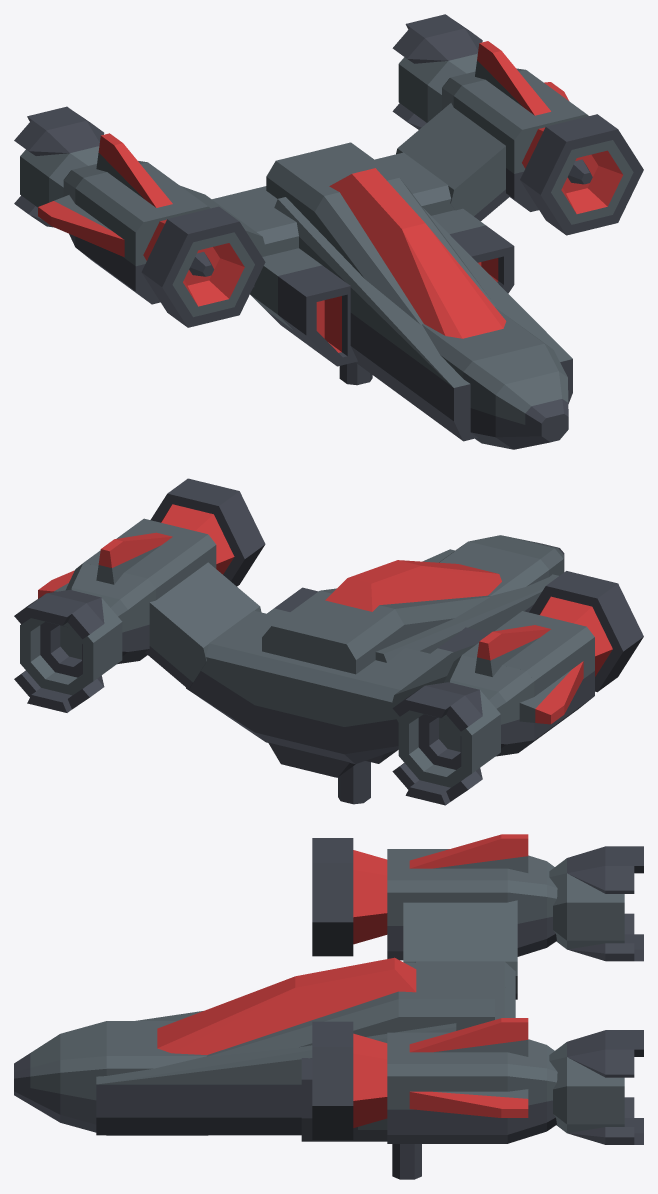
File: Lancer.fbx
3 renders of one model, top to bottom at view 1: azimuth 30°, elevation 25°; view 2: azimuth 150°, elevation 25°; view 3: azimuth 270°, elevation 25°, orthographic.
Parts seen in each view (by area): view 1: hull_body; view 2: hull_body; view 3: hull_body.
Boxes of the visible parts, x1,y1,x2,y2 form: hull_body: [14, 14, 643, 449]; hull_body: [14, 478, 643, 805]; hull_body: [14, 834, 643, 1179].
Bounding box in the file's own units: 573 × 262 × 613.
